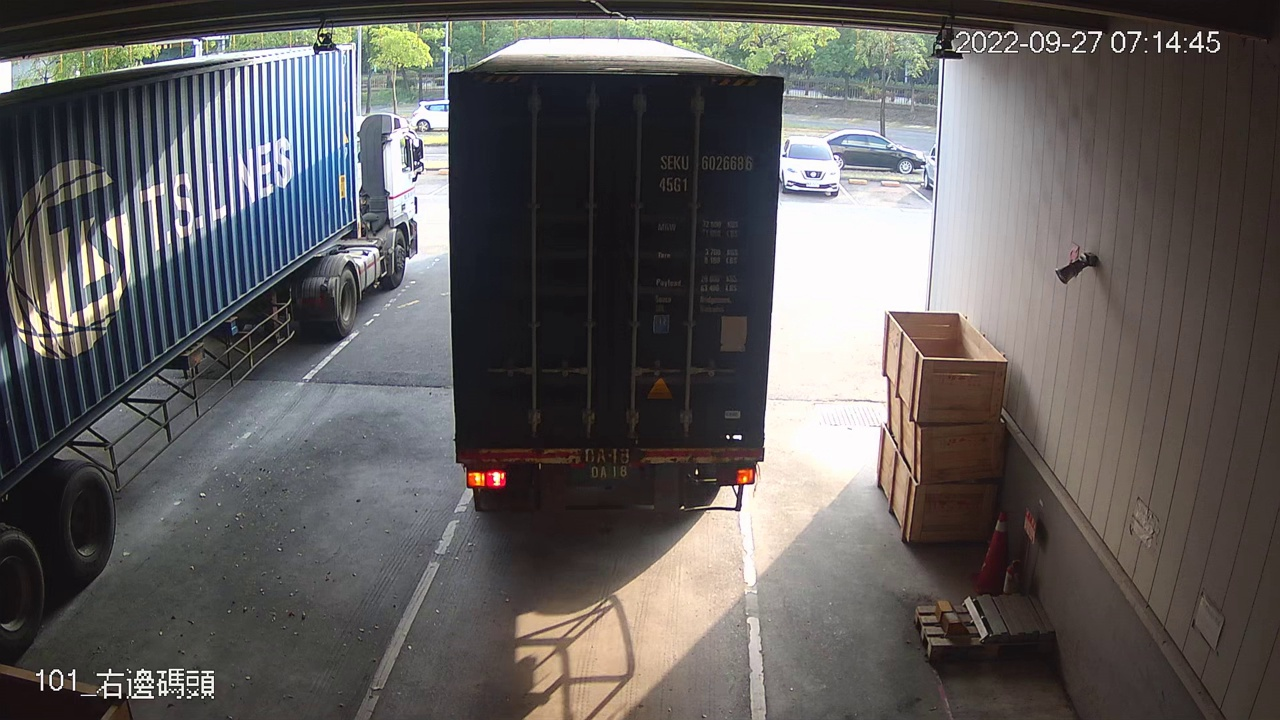container: (653, 150, 761, 201)
